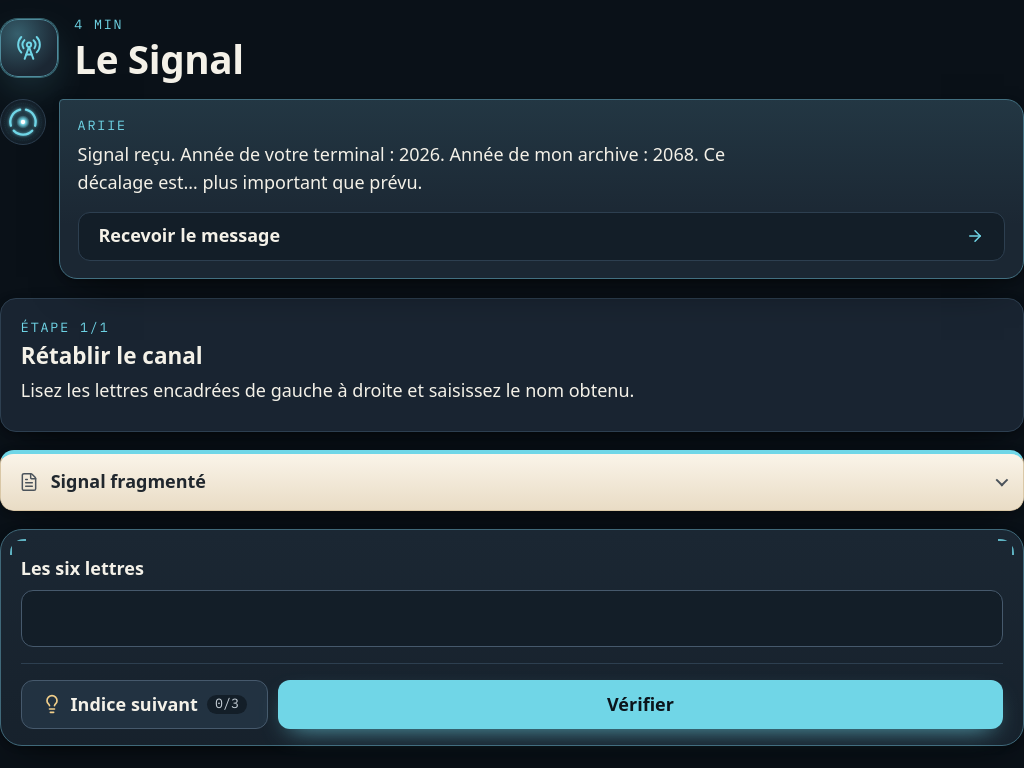
les indices se referment sans être consommés et rendent le focus
Click the button "Indice suivant 0/3" at x=144, y=704, box [21,680,268,729]
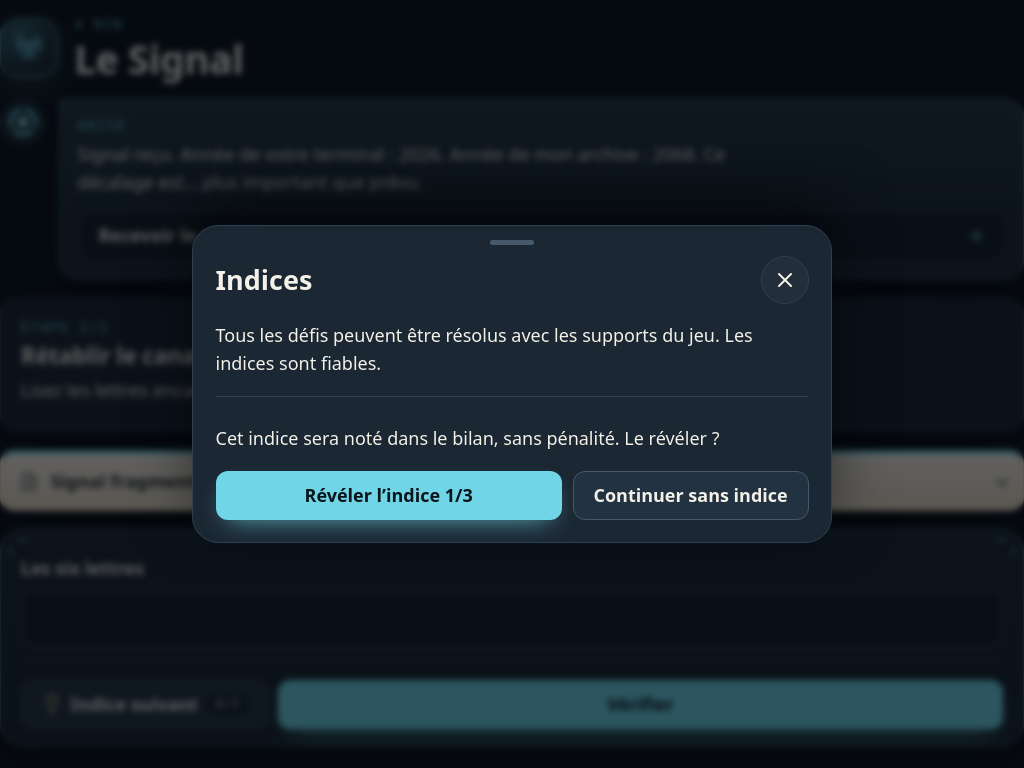
Click the button "Continuer sans indice" at x=691, y=496, box [573,471,808,520]
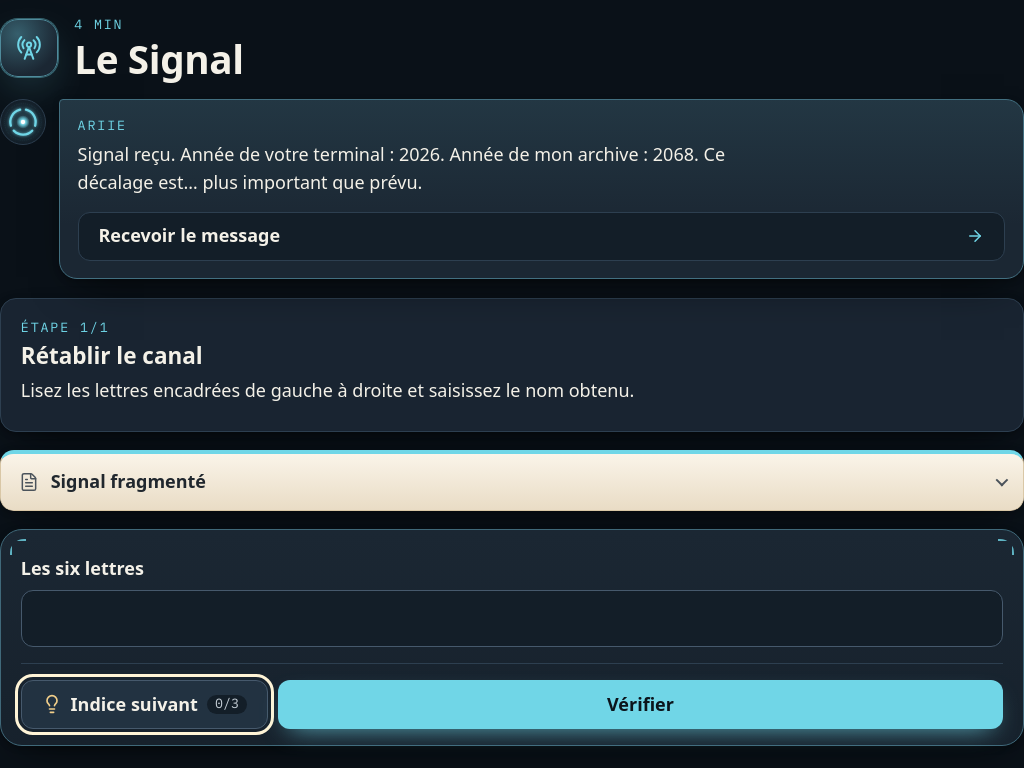
Expected: the dialog is gone
Click the button "Indice suivant 0/3" at x=144, y=704, box [21,680,268,729]
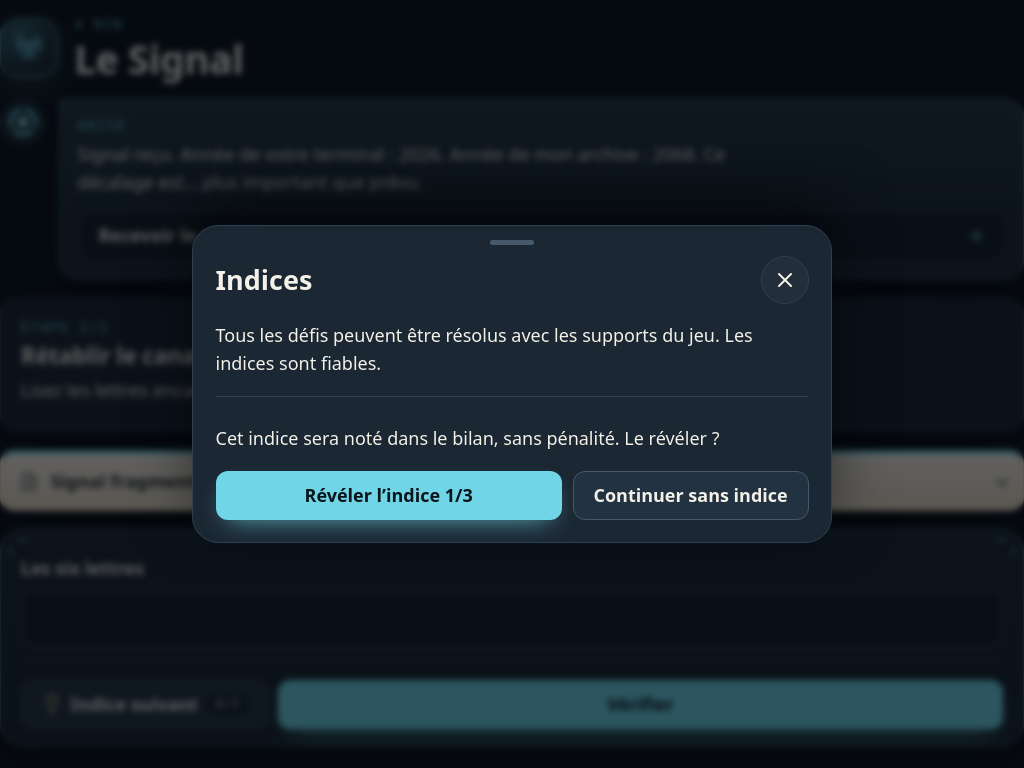
Press Escape
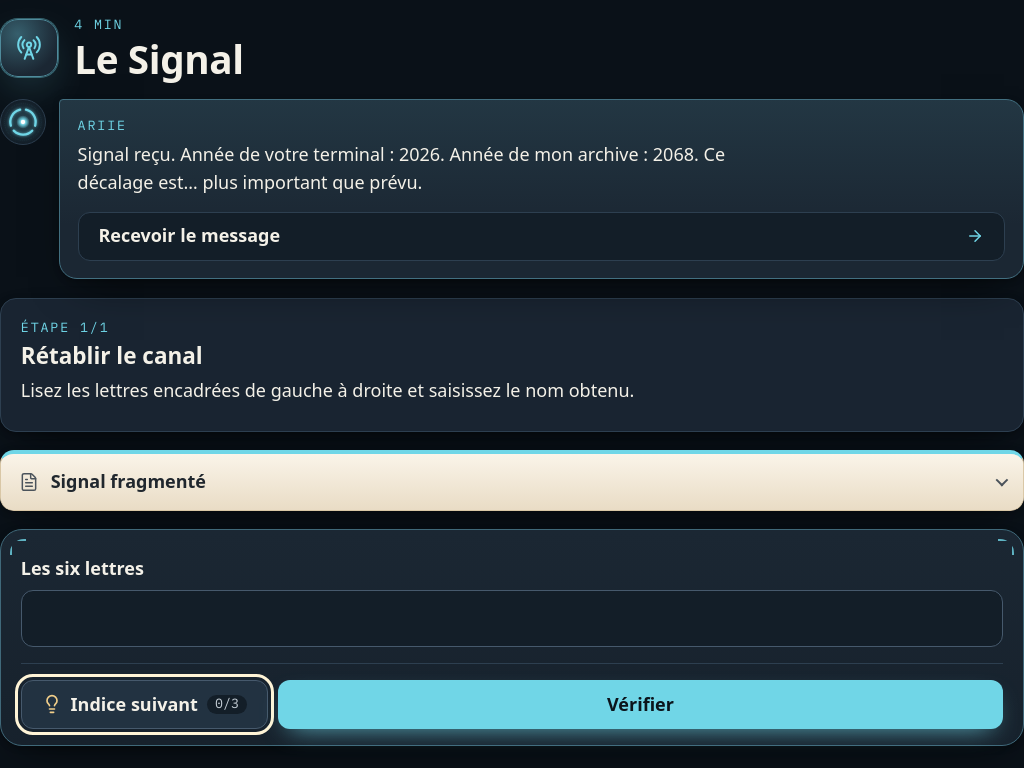
Expected: the text "0/3" is shown, [207,695,247,714]
Expected: the dialog is gone
